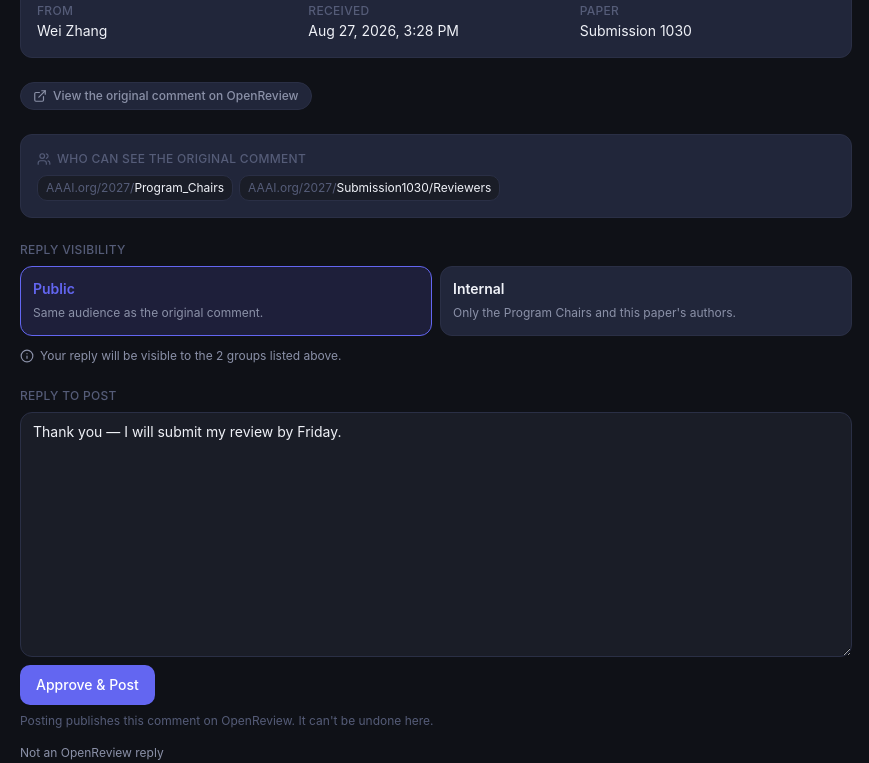
Test: post — solve_failed recovery › shows an error specific to THIS retry when it fails
This screenshot has width=869, height=763.
(page scrolled)
Expected: the text box labelled "Reply to post" holds "Thank you — I will submit my review by Friday.", [20,412,852,657]
Click the button "Approve & Post".
click(87, 685)  # box [20,665,155,705]
(page scrolled)
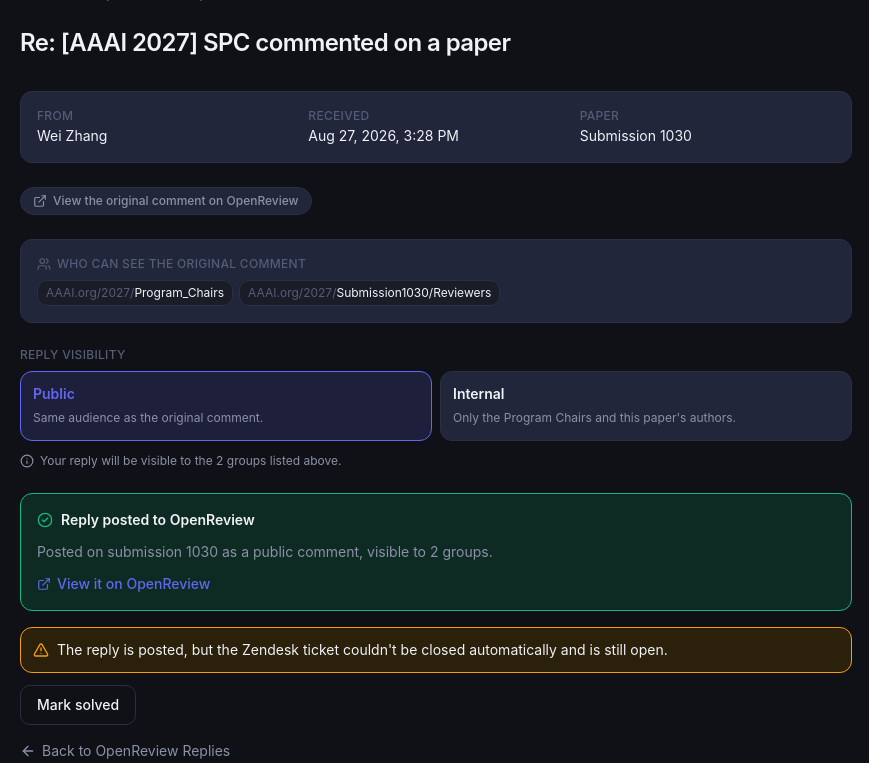
Expected: the text "Reply posted to OpenReview" is shown, [37,510,255,528]
Click the button "Mark solved".
click(78, 704)  # box [20,684,136,724]
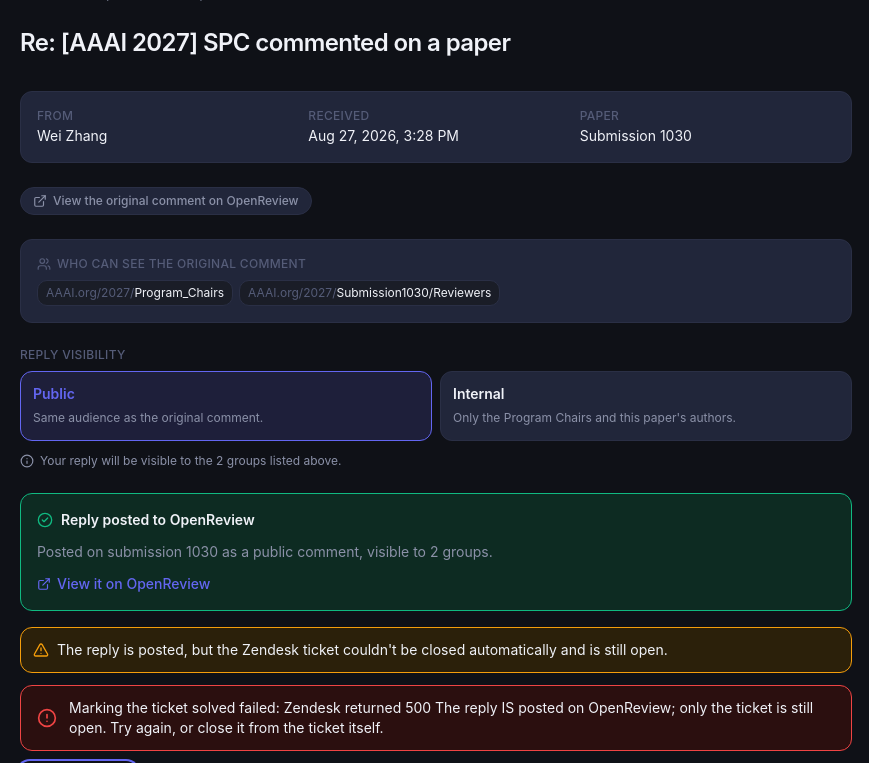
Expected: the 3rd message is shown, [20,684,852,750]
Expected: the 3rd message shows "Zendesk returned 500", [69,698,813,736]
